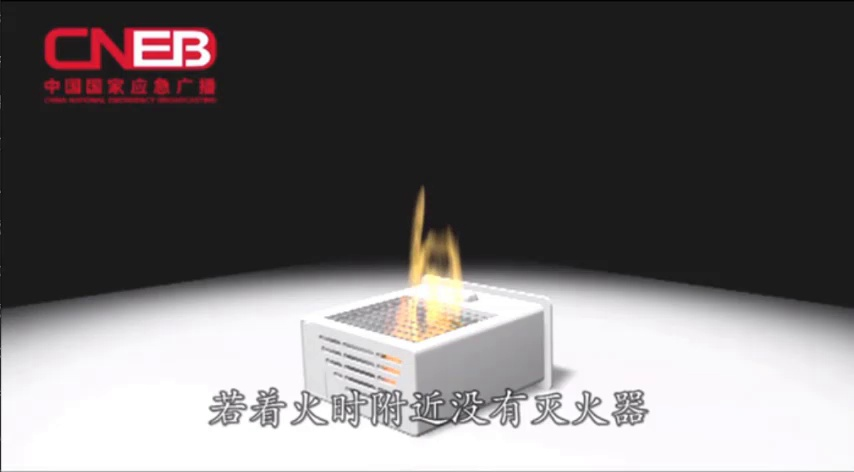fire: (390, 183, 474, 338)
